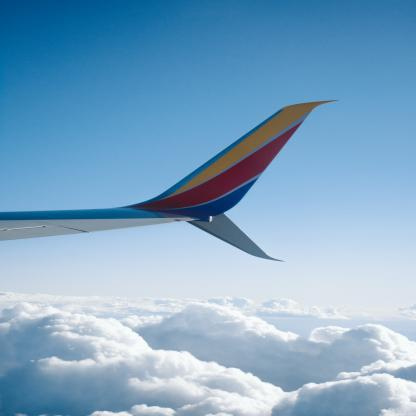CIV_Plane: (2, 90, 341, 278)
